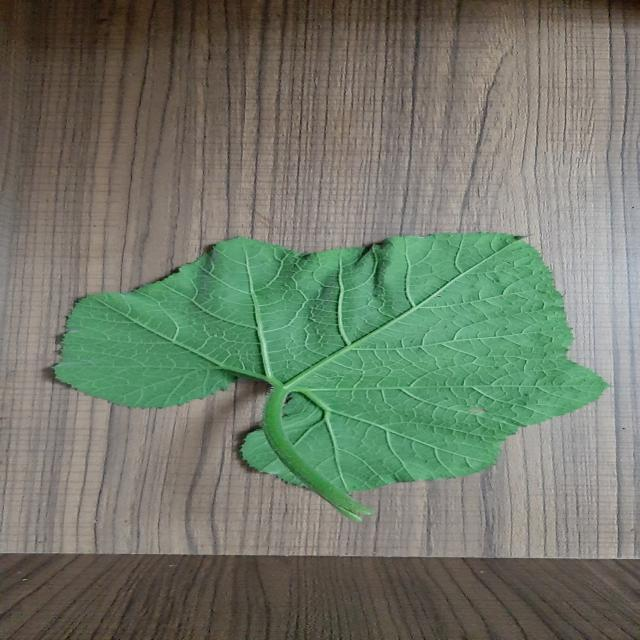pumpkin: (54, 232, 607, 521)
